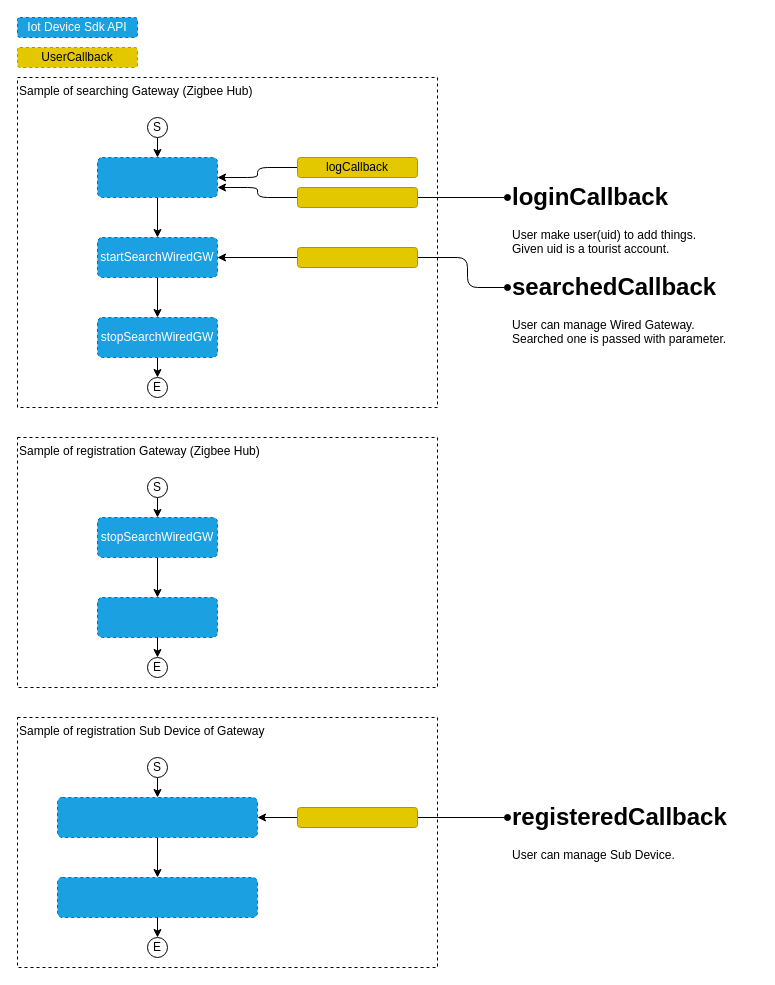
Some shapes in this 775 by 985 pixel diagram are drawn without their labels. Here are the shapes that lost their labels. From the top down, the centre of each, then its label:
At pixel 157 177: "init".
At pixel 357 197: "loginCallback".
At pixel 357 257: "searchedCallback".
At pixel 157 617: "registerWiredGW".
At pixel 157 817: "startRegisterZigbeeSubDevice".
At pixel 357 817: "registedCallback".
At pixel 157 897: "stopRegisterZigbeeSubDevice".
